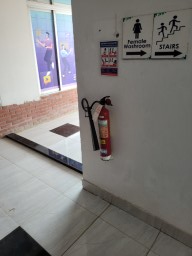fire_extinguisher: (72, 105, 121, 147), (80, 106, 121, 126)
